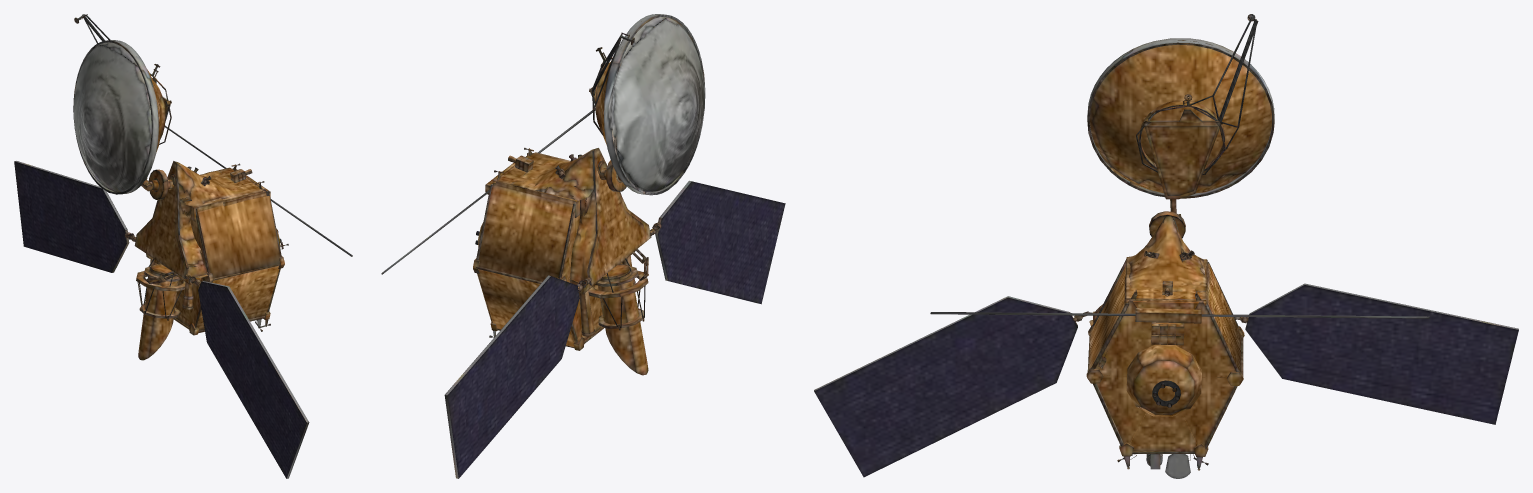
File: mro.glb
The picture shows the model from 3 angles, left to right: view 1: azimuth 30°, elevation 25°; view 2: azimuth 150°, elevation 25°; view 3: azimuth 270°, elevation 25°; orthographic projection. The views are drawn at different scales.
Parts seen in each view (by area): view 1: mro_proxy7, mro_proxy5, mro_proxy3, mro_proxy6, mro_proxy2; view 2: mro_proxy7, mro_proxy5, mro_proxy3, mro_proxy6, mro_proxy2; view 3: mro_proxy7, mro_proxy6, mro_proxy5.
Boxes of the visible parts, bbox=[...] form: mro_proxy7: bbox=[14, 14, 352, 478]; mro_proxy5: bbox=[134, 161, 213, 335]; mro_proxy3: bbox=[129, 173, 193, 360]; mro_proxy6: bbox=[230, 163, 284, 328]; mro_proxy2: bbox=[137, 259, 181, 320]; mro_proxy7: bbox=[381, 14, 785, 478]; mro_proxy5: bbox=[477, 148, 660, 350]; mro_proxy3: bbox=[581, 160, 657, 375]; mro_proxy6: bbox=[473, 147, 533, 337]; mro_proxy2: bbox=[601, 249, 648, 330]; mro_proxy7: bbox=[814, 14, 1518, 477]; mro_proxy6: bbox=[1086, 281, 1243, 470]; mro_proxy5: bbox=[1082, 217, 1244, 478].
Bounding box in the file's own units: 32.76 × 61.01 × 89.74.
2 materials, 2 textured.
